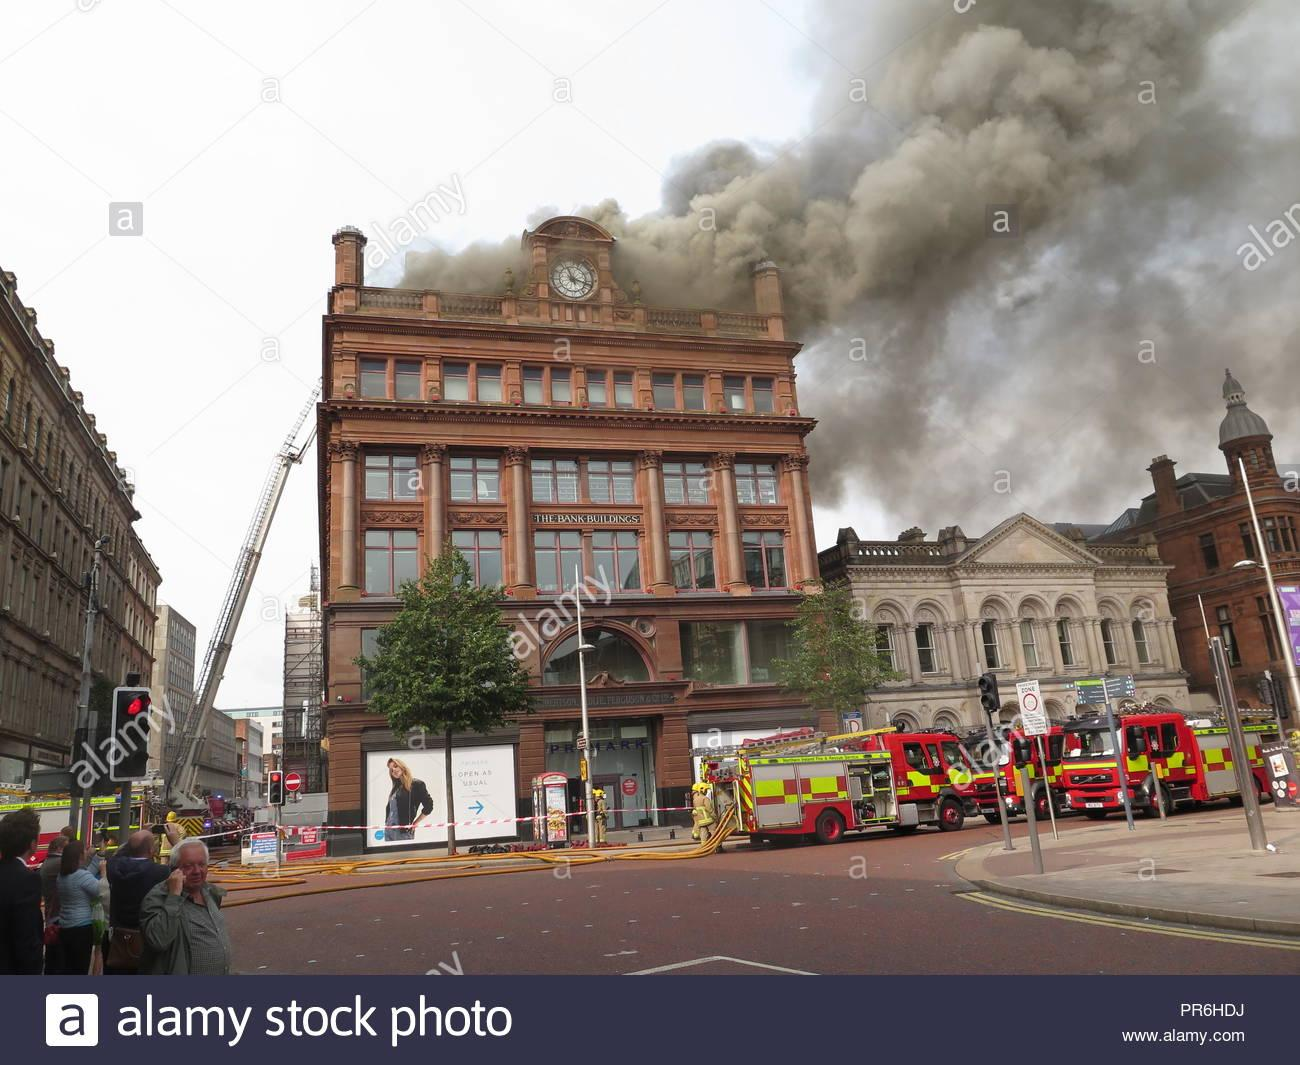smoke: (799, 0, 1300, 527), (605, 141, 796, 319), (403, 221, 524, 296)
